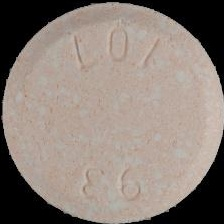63629-1528: (0, 0, 224, 224)
